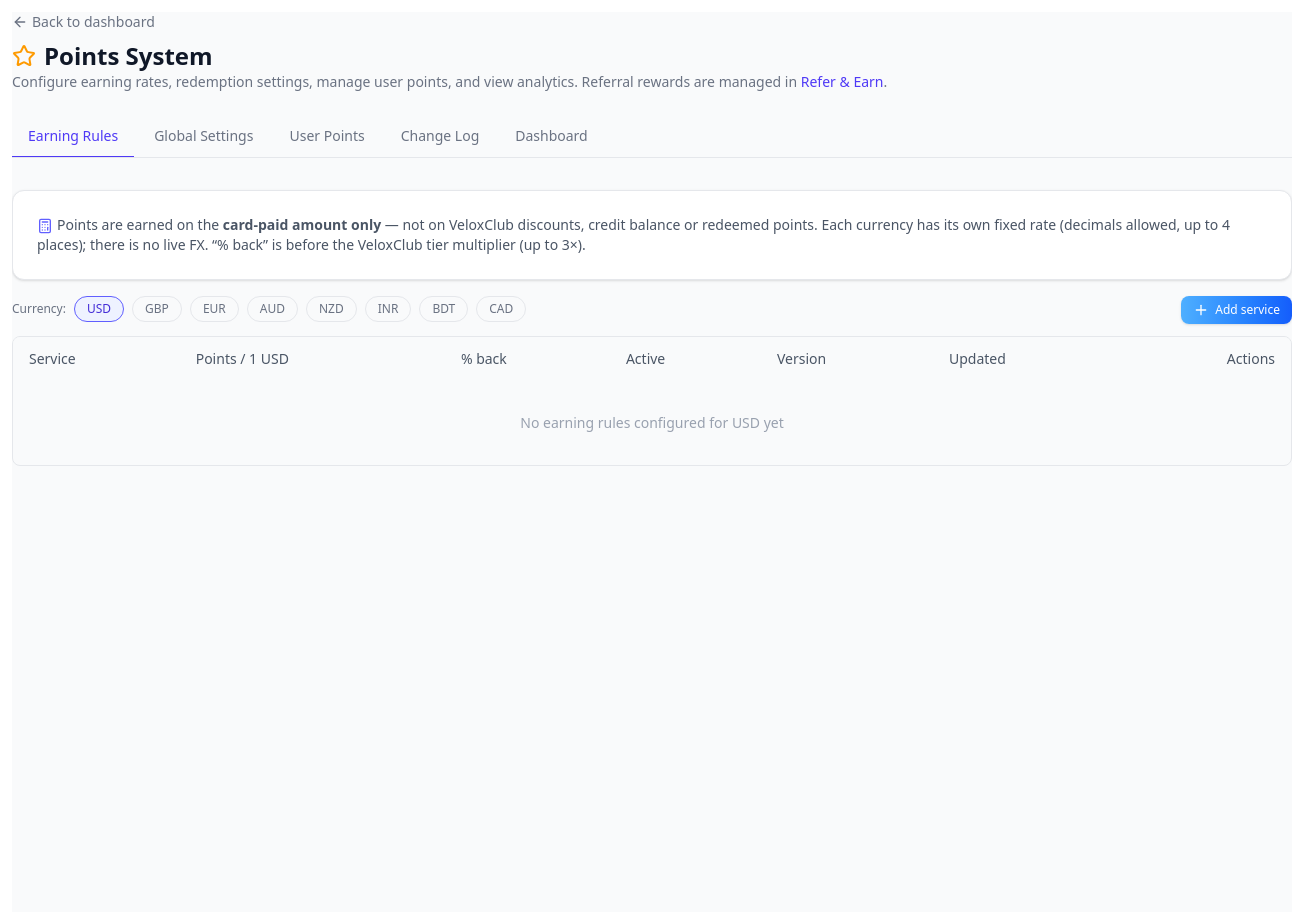
Test: Points → Settings → Limit per order › shows saved limits and what the points limit is worth
What coordinates should you click on to do the following:
click the button "Global Settings"
I would click on:
 (204, 137)
Its box is [138,116,270,158].
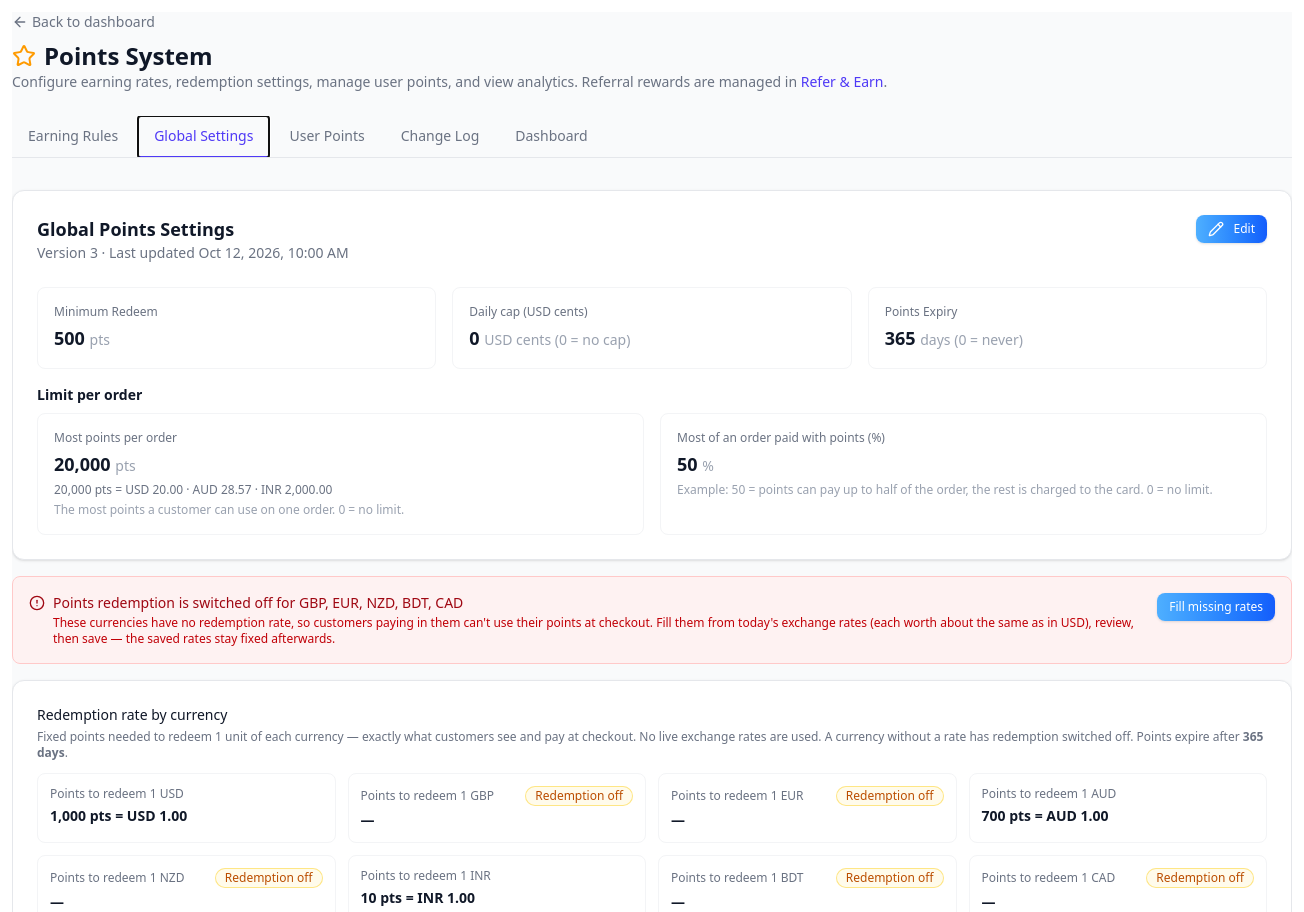
Result: the text "Limit per order" is shown at [37,385,142,404]
